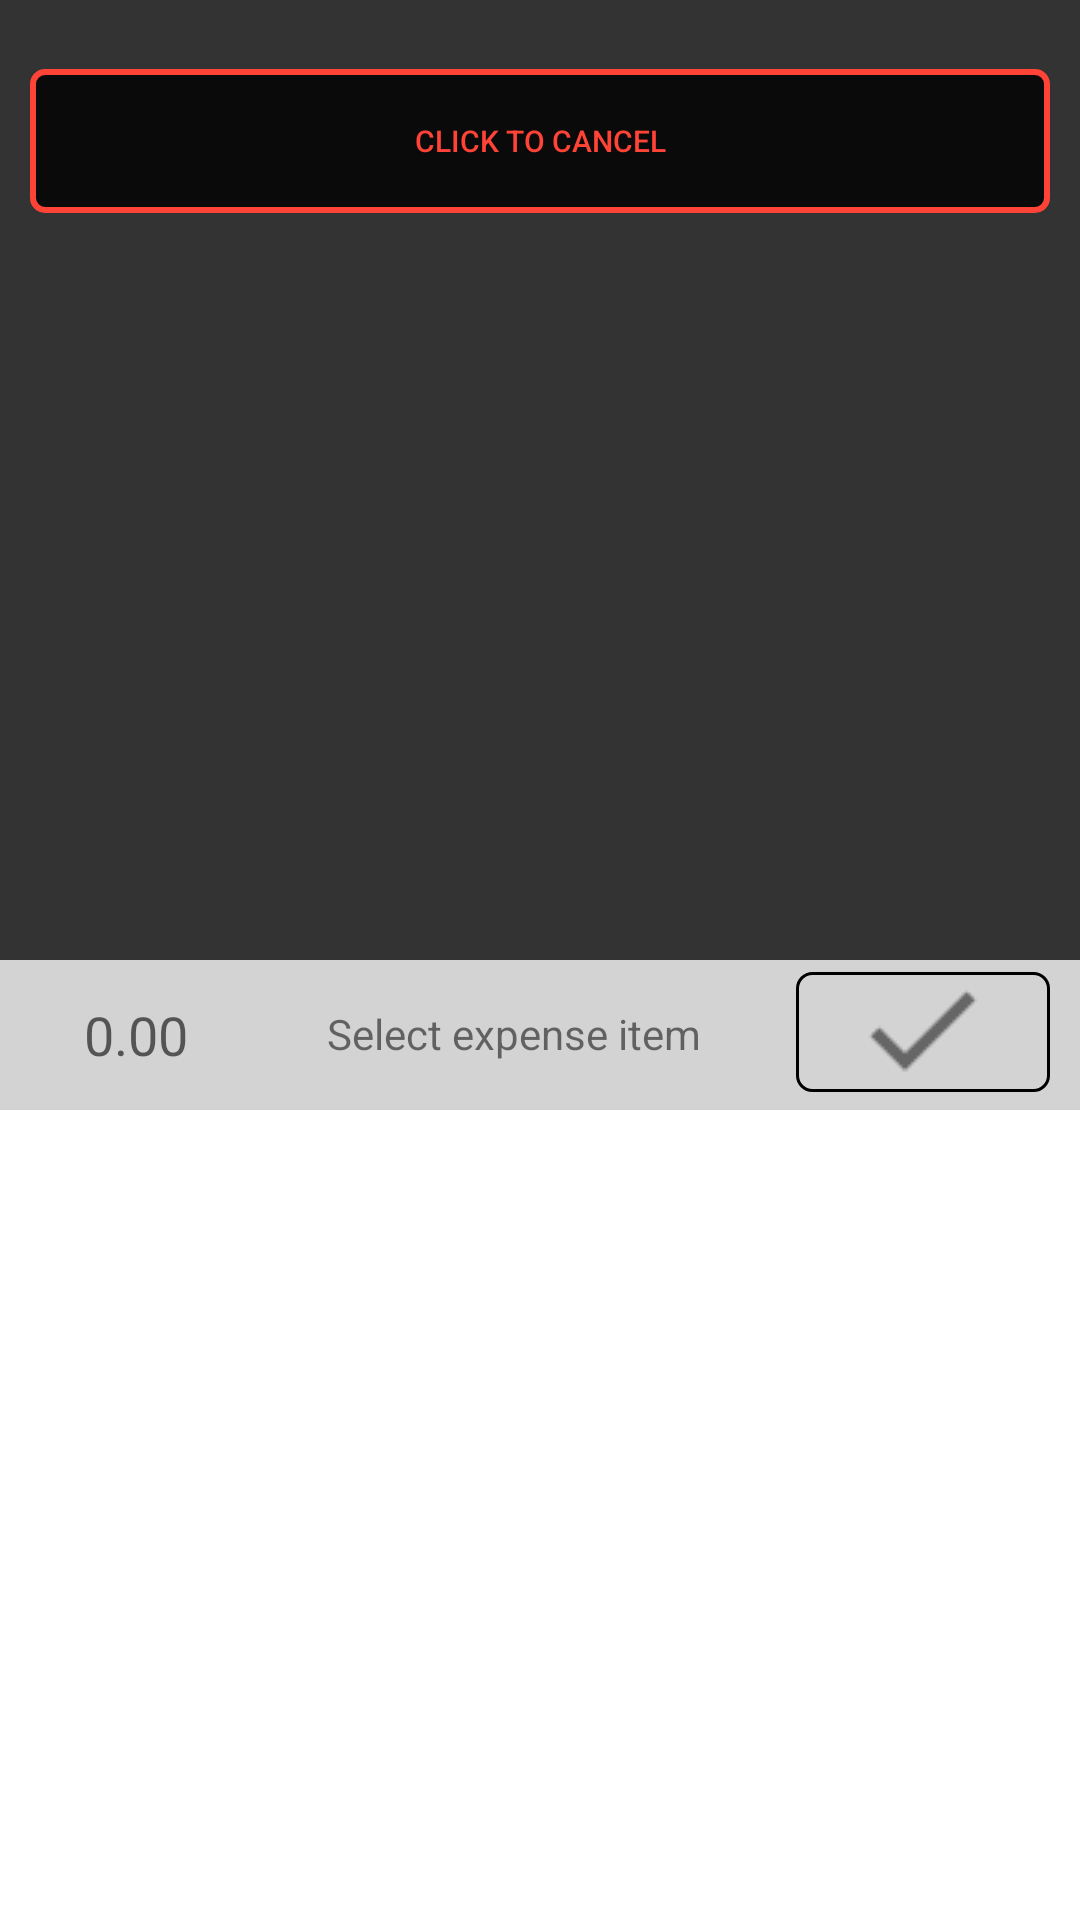

Icon bounding boxes for this 1080w x 1920h phone screenshot, format (x1, y1, x2, y2):
check: (796, 972, 1050, 1092)
